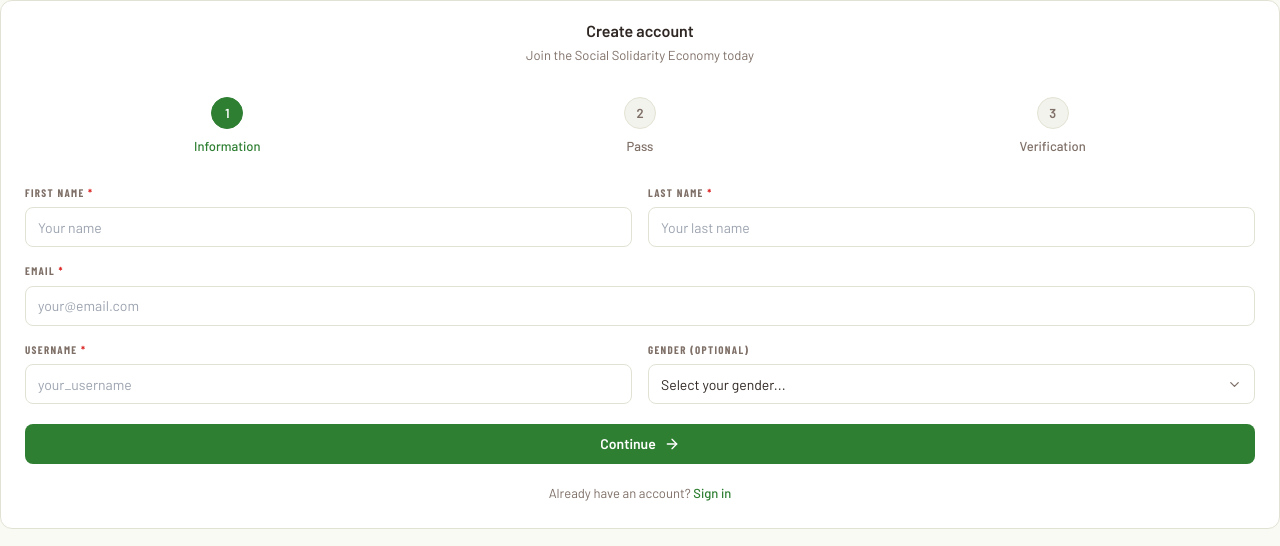
Test: account creation stages › moves from Info to Pass, and Back restores Info without introducing organization steps
Expected: the navigation bar reads "1 Information 2 Pass 3 Verification", [194,97,1086,154]
Expected: the list item "1 Information" is shown, [194,97,261,154]
Type "Test" into the field labelled "First name" at coordinates (328, 227), box [25,207,632,247]
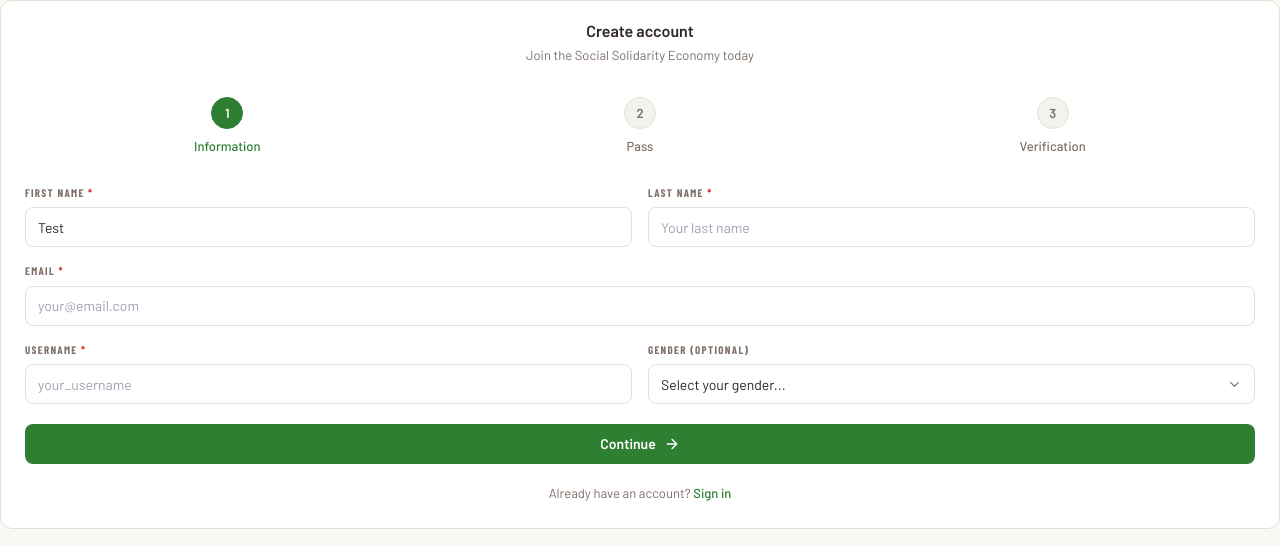
Type "User" into the field labelled "Last name" at coordinates (952, 227), box [648,207,1255,247]
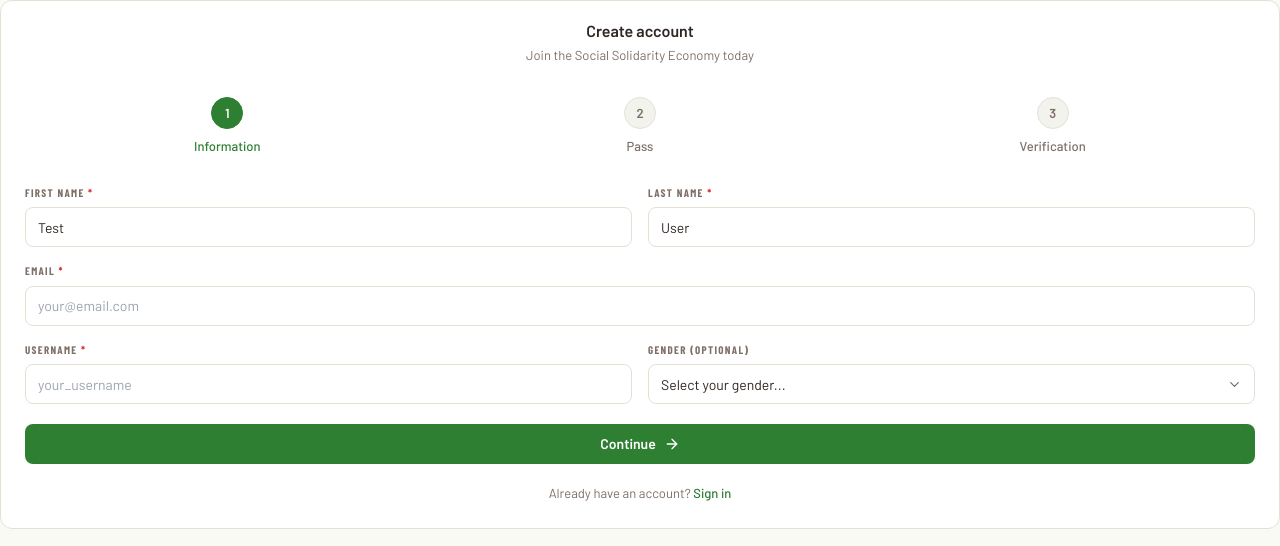
Type "test@example.com" into the field labelled "Email" at coordinates (640, 306), box [25,286,1255,326]
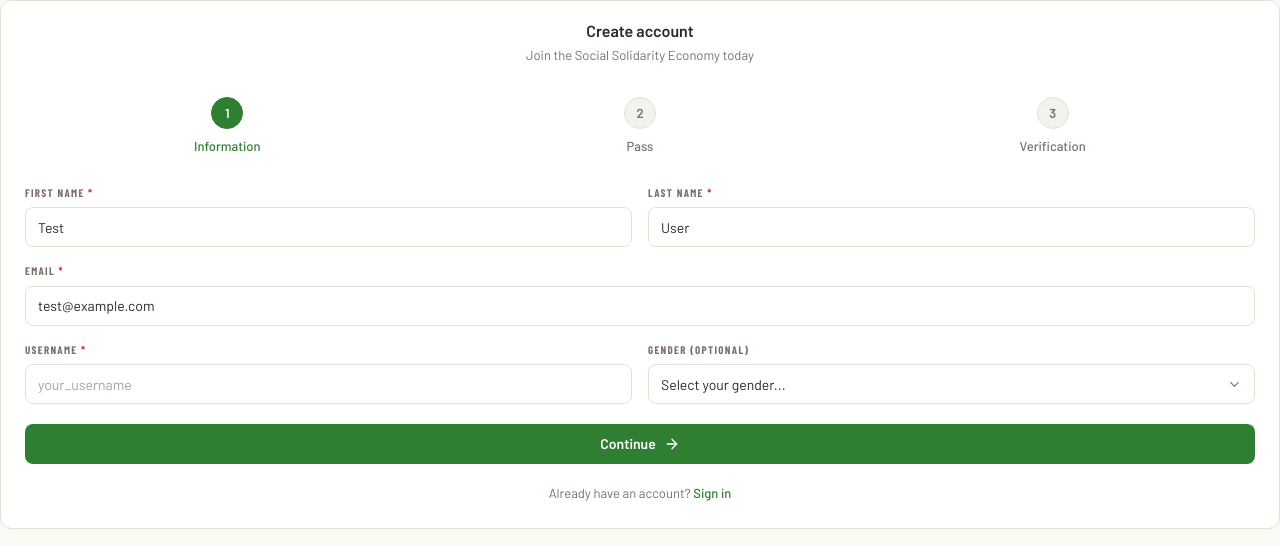
Type "test_user" into the field labelled "Username" at coordinates (328, 384), box [25,364,632,404]
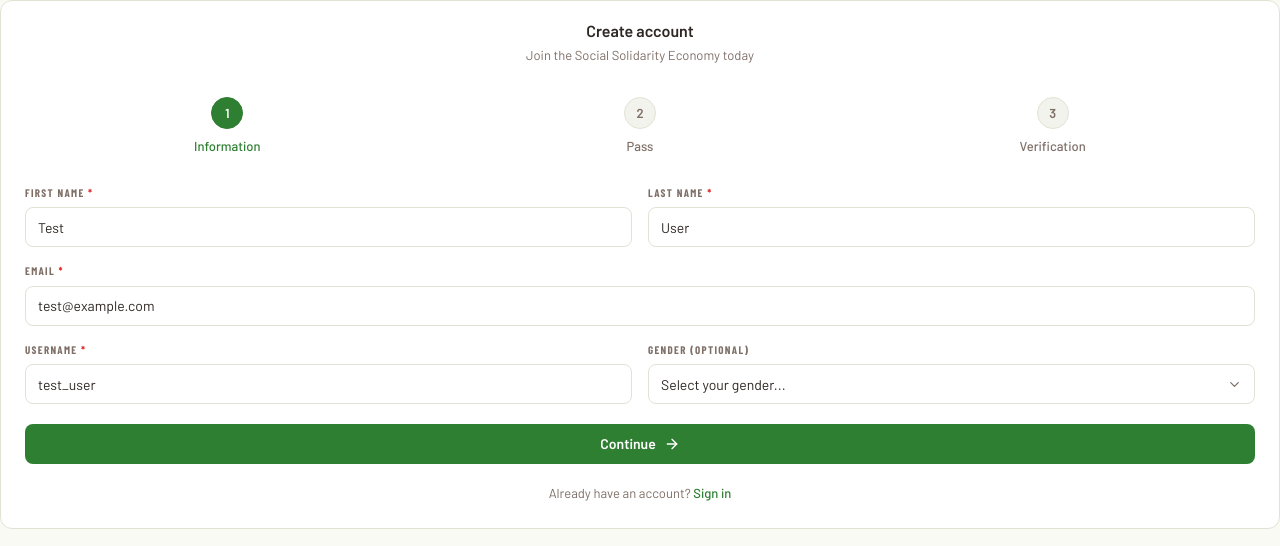
Click the button "Continue" at coordinates (640, 444), box [25,424,1255,464]
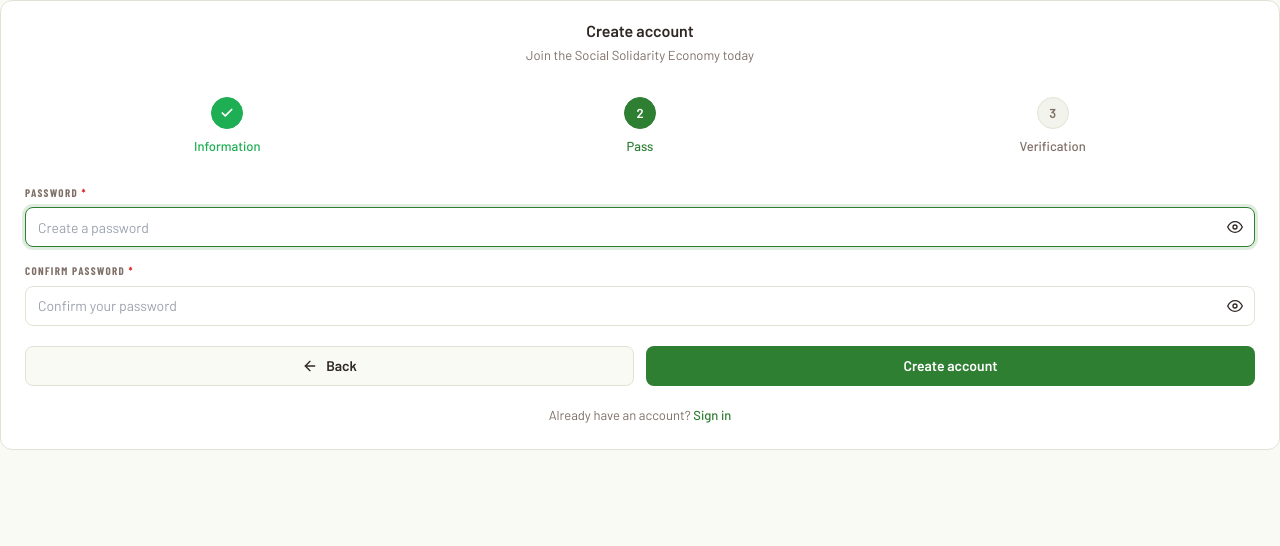
Expected: the list item "2 Pass" is shown, [624,97,656,154]
Click the button "Back" at coordinates (330, 366), box [25,346,634,386]
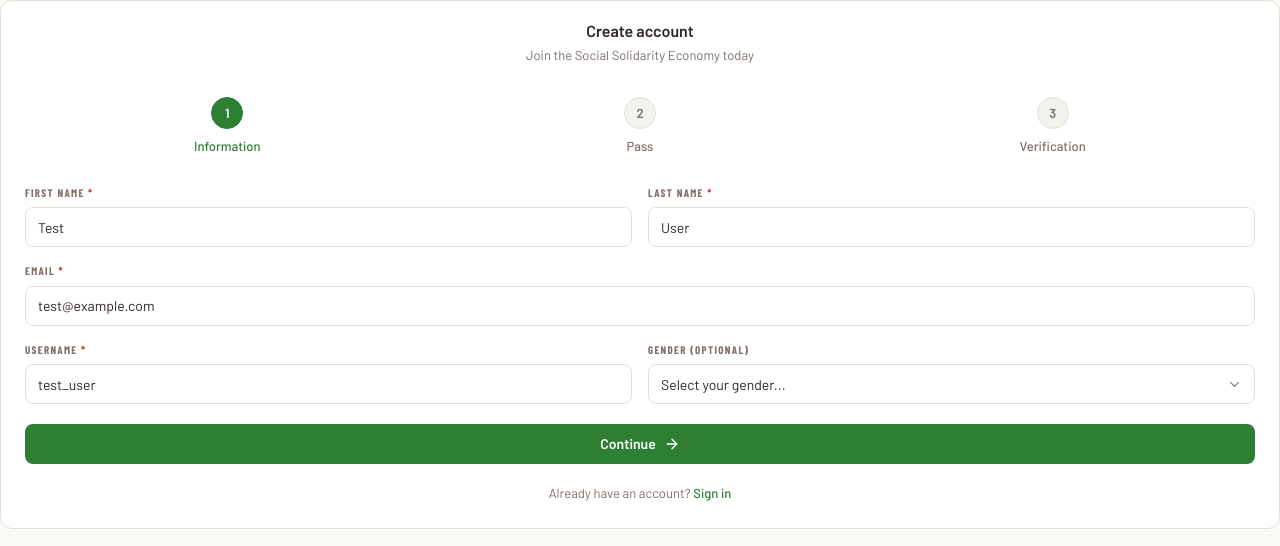
Expected: the list item "1 Information" is shown, [194,97,261,154]
Expected: the field labelled "First name" holds "Test", [25,207,632,247]
